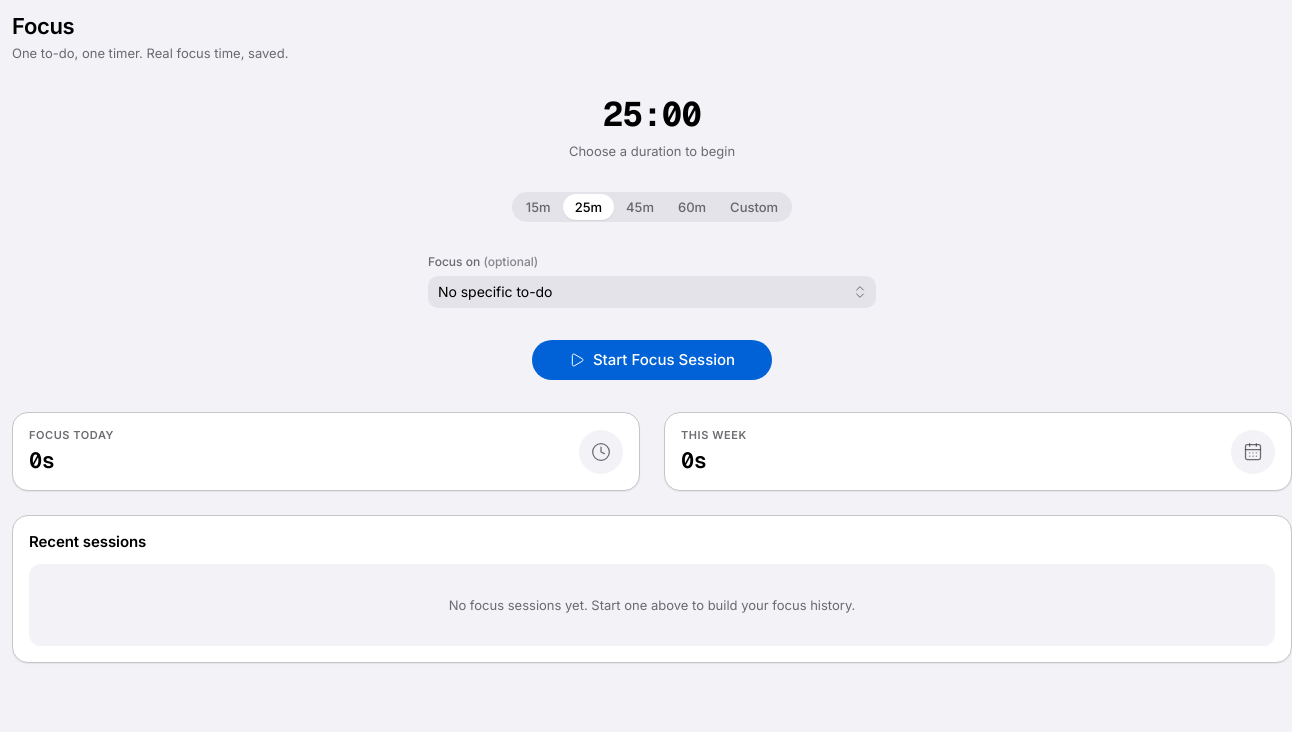
Focus session safety › treats an emptied custom field as no duration rather than the last preset
Click the radio button labelled "45m" at point(640, 207), box [614,194,666,220]
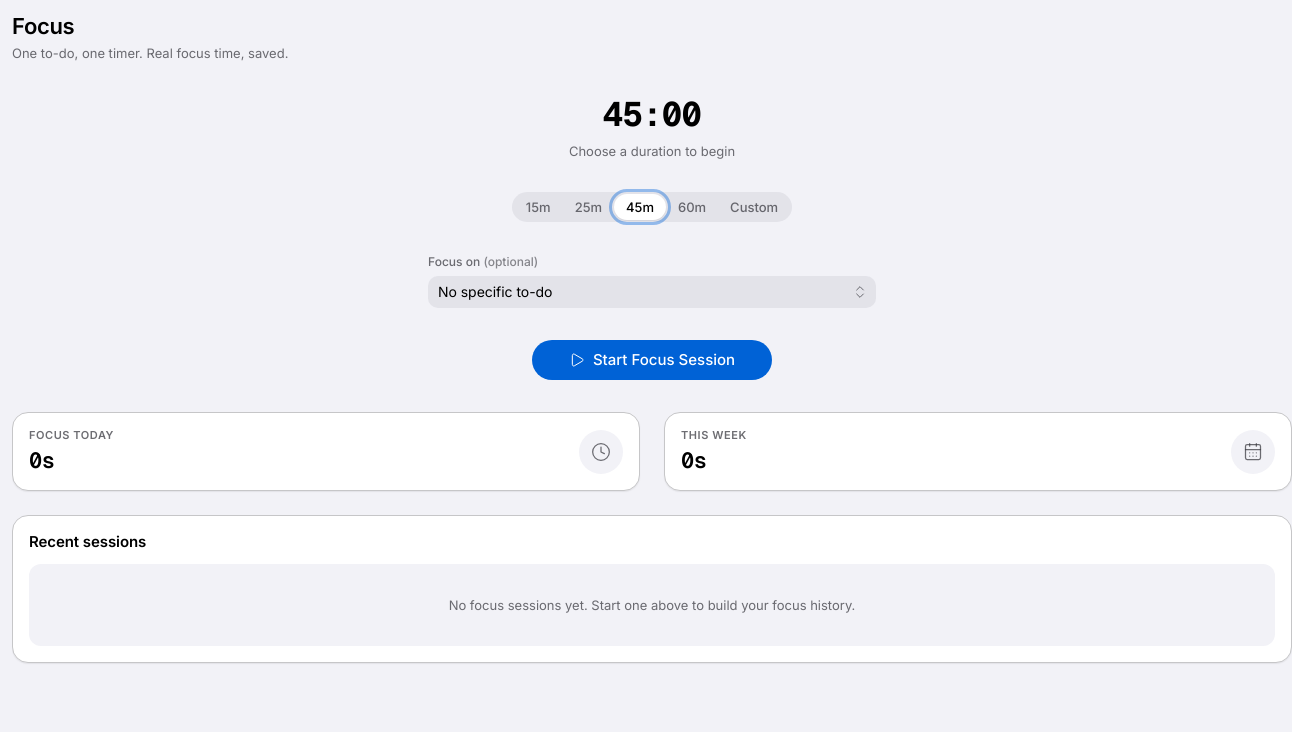
Click the radio button labelled "Custom" at point(754, 207), box [718,194,790,220]
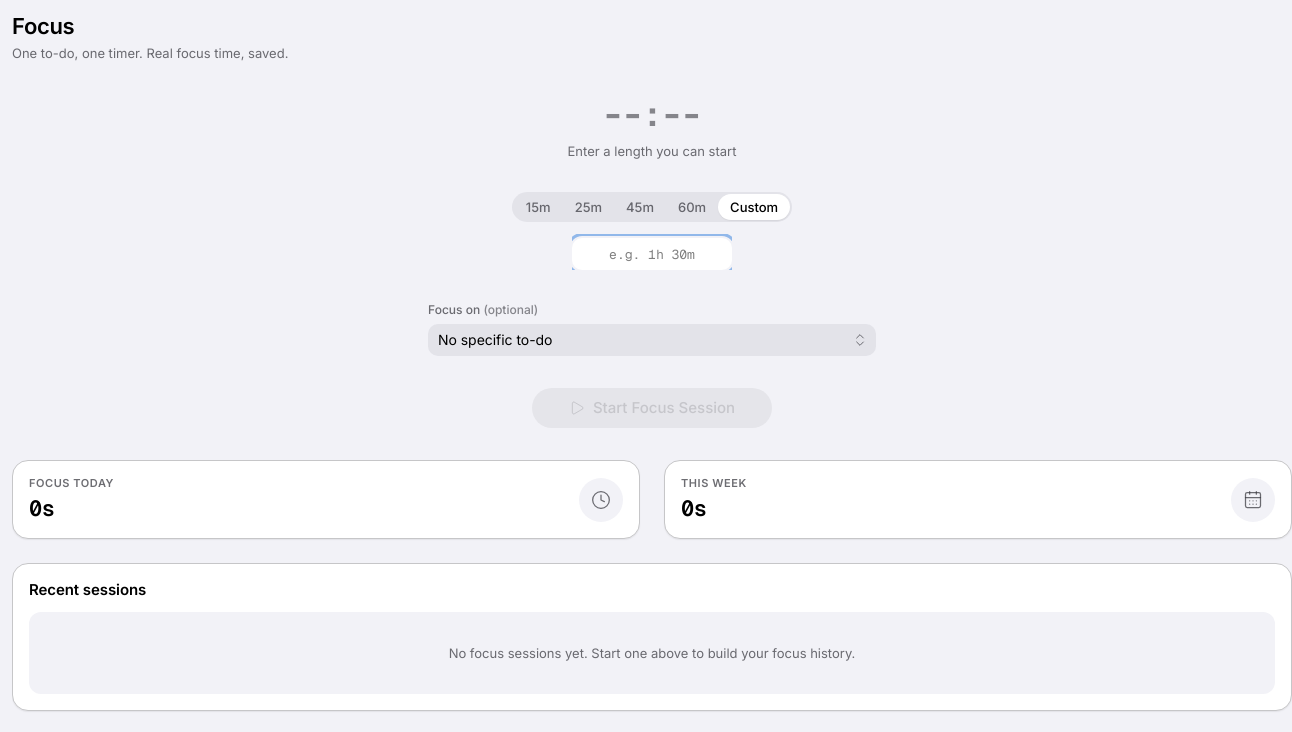
Check: the button "Start Focus Session" is disabled, box [532,388,772,428]
